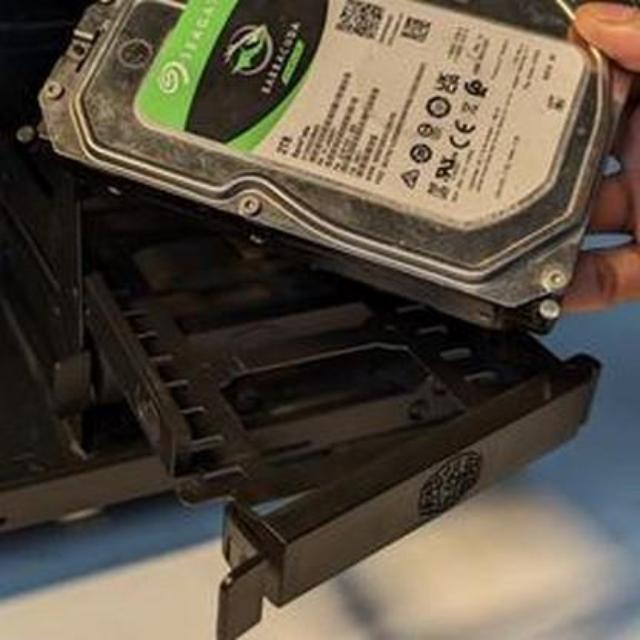DISK: (0, 0, 634, 329)
